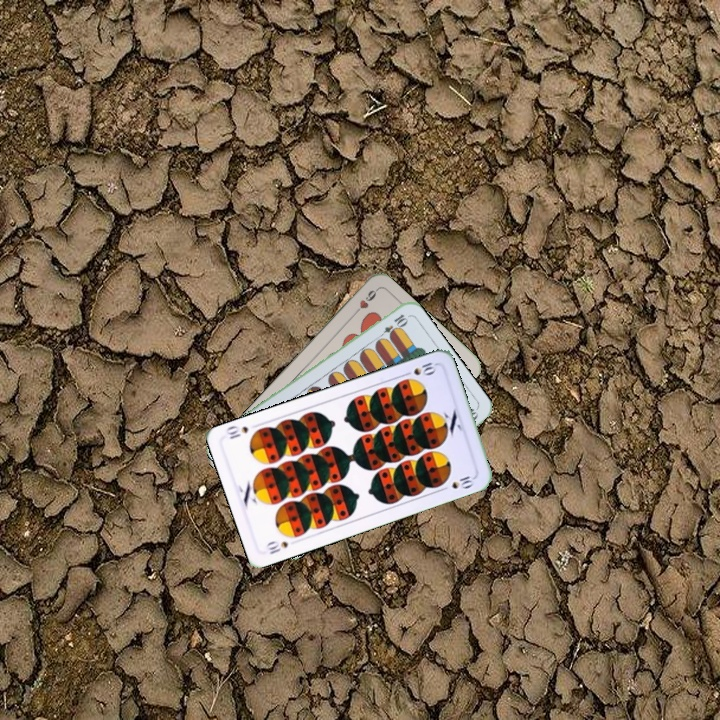E10: (374, 310, 410, 342)
H9: (349, 285, 380, 318)
S10: (399, 358, 439, 379), (262, 537, 291, 557)
